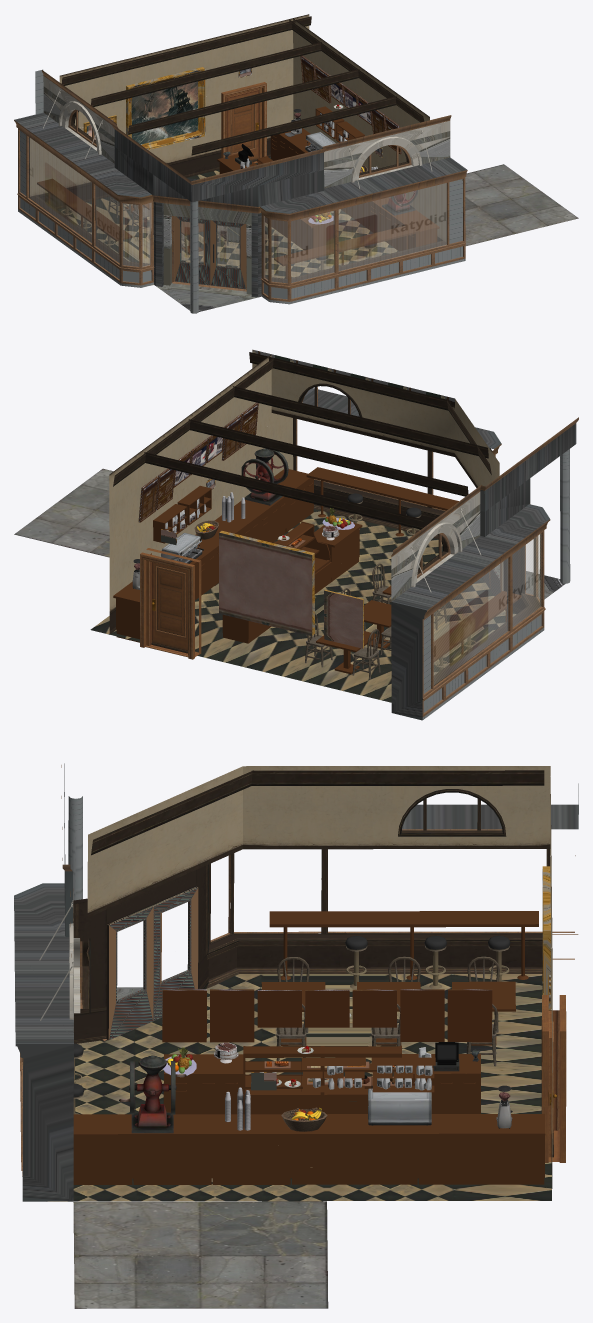
File: food_bar_COMPRESSED.glb
3 renders of one model, top to bottom at view 1: azimuth 30°, elevation 25°; view 2: azimuth 150°, elevation 25°; view 3: azimuth 270°, elevation 25°, orthographic. The views are drawn at different scales.
Parts seen in each view (by area): view 1: FrontSide_15, FrontSide_9, FrontSide_21, FrontSide_13, FrontSide_1, FrontSide_12, FrontSide_8, FrontSide_24, FrontSide_0, FrontSide_4, FrontSide_3, FrontSide_20 (+1 smaller); view 2: FrontSide_9, FrontSide_15, FrontSide_1, FrontSide_8, FrontSide_21, FrontSide_12, FrontSide_13, FrontSide_0, FrontSide_24, FrontSide_4, FrontSide_3, FrontSide_20 (+2 smaller); view 3: FrontSide_9, FrontSide_1, FrontSide_15, FrontSide_12, FrontSide_24, FrontSide_4, FrontSide_20, FrontSide_3, FrontSide_2, FrontSide_5, FrontSide_8, FrontSide_26 (+2 smaller).
Boxes of the visible parts, bbox=[...] form: FrontSide_15: bbox=[14, 69, 467, 313]; FrontSide_9: bbox=[29, 14, 446, 285]; FrontSide_21: bbox=[29, 137, 446, 282]; FrontSide_13: bbox=[43, 76, 450, 311]; FrontSide_1: bbox=[37, 106, 439, 278]; FrontSide_12: bbox=[465, 164, 578, 245]; FrontSide_8: bbox=[83, 67, 382, 157]; FrontSide_24: bbox=[300, 55, 401, 154]; FrontSide_0: bbox=[227, 89, 259, 161]; FrontSide_4: bbox=[221, 82, 266, 163]; FrontSide_3: bbox=[108, 195, 228, 254]; FrontSide_20: bbox=[382, 190, 417, 215]; FrontSide_9: bbox=[90, 349, 541, 702]; FrontSide_15: bbox=[296, 386, 578, 720]; FrontSide_1: bbox=[113, 467, 521, 699]; FrontSide_8: bbox=[161, 478, 363, 648]; FrontSide_21: bbox=[433, 534, 541, 685]; FrontSide_12: bbox=[14, 468, 113, 557]; FrontSide_13: bbox=[302, 402, 565, 601]; FrontSide_0: bbox=[151, 562, 187, 653]; FrontSide_24: bbox=[138, 402, 258, 522]; FrontSide_4: bbox=[140, 548, 201, 659]; FrontSide_3: bbox=[305, 563, 446, 679]; FrontSide_20: bbox=[241, 448, 288, 505]; FrontSide_9: bbox=[46, 766, 552, 1201]; FrontSide_1: bbox=[73, 911, 545, 1184]; FrontSide_15: bbox=[14, 763, 578, 1201]; FrontSide_12: bbox=[73, 1201, 328, 1308]; FrontSide_24: bbox=[162, 989, 492, 1042]; FrontSide_4: bbox=[541, 995, 566, 1162]; FrontSide_20: bbox=[119, 1055, 186, 1133]; FrontSide_3: bbox=[276, 956, 499, 1066]; FrontSide_2: bbox=[368, 1085, 431, 1125]; FrontSide_5: bbox=[73, 935, 510, 1114]; FrontSide_8: bbox=[251, 866, 550, 1090]; FrontSide_26: bbox=[313, 1047, 432, 1090].
Size of what is drawn, in the model's own units: 44.27 by 14.02 by 30.45.
Materials: 28 (28 with a texture image).
